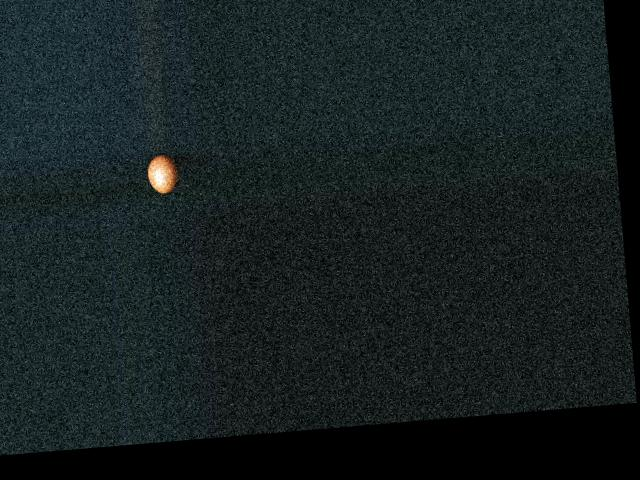egg: (147, 153, 180, 194)
